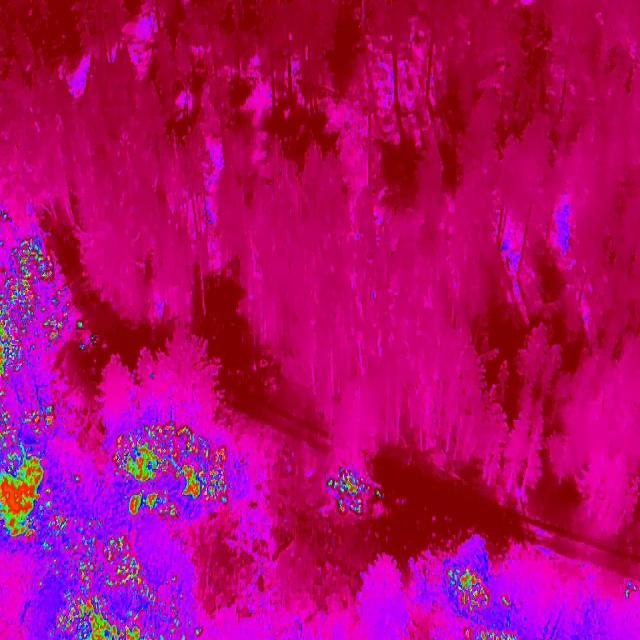fire: (0, 222, 65, 546), (30, 516, 154, 640), (110, 421, 228, 531), (438, 566, 524, 640), (322, 465, 391, 516), (154, 571, 204, 640)
